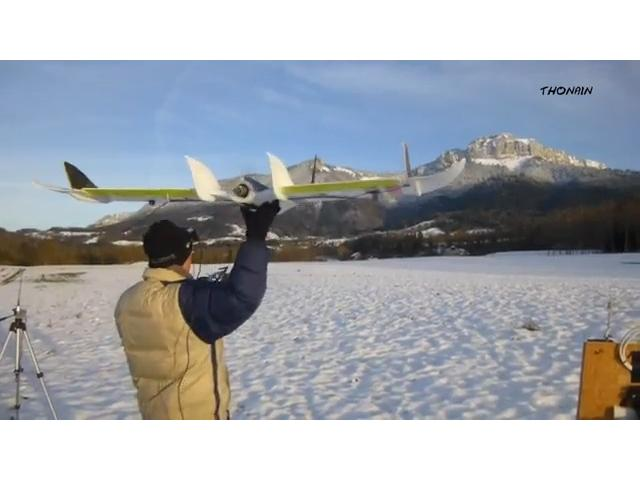Anti-Drone: (18, 145, 492, 221)
